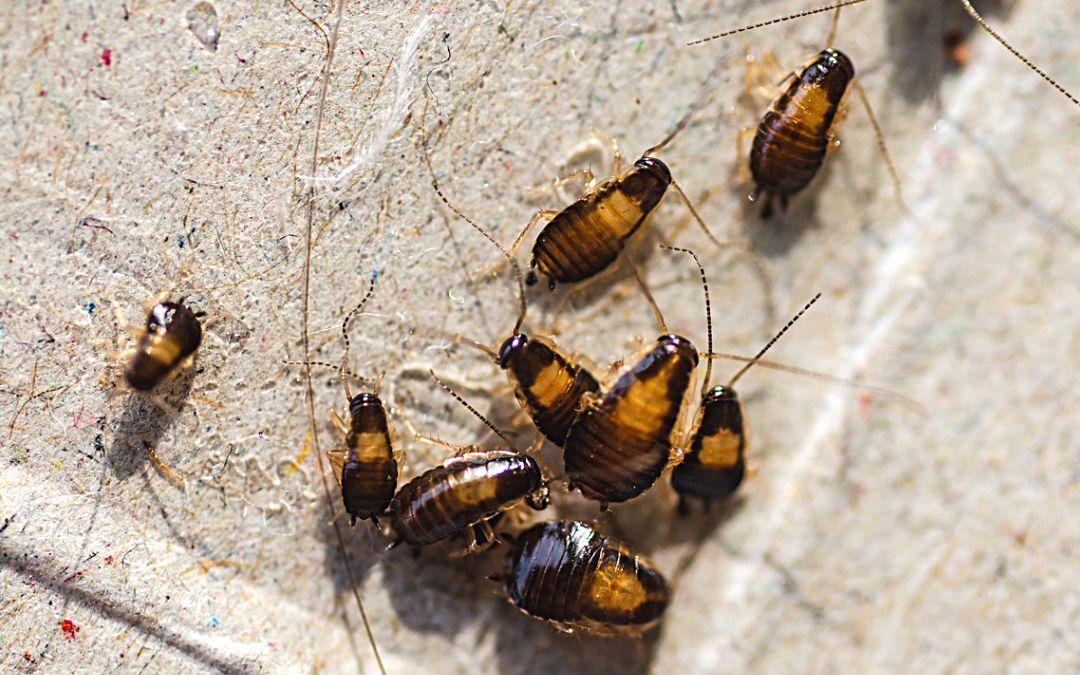cockroach: (559, 327, 698, 514), (515, 152, 676, 294), (505, 518, 677, 644), (744, 38, 860, 220), (390, 438, 552, 558), (494, 326, 608, 452), (666, 379, 752, 516), (338, 386, 400, 524), (119, 296, 201, 394)
